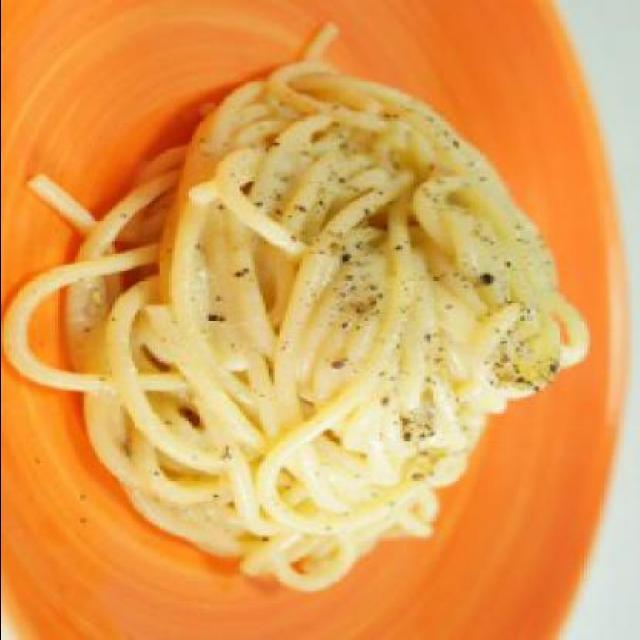Oil pasta: (28, 74, 618, 606)
